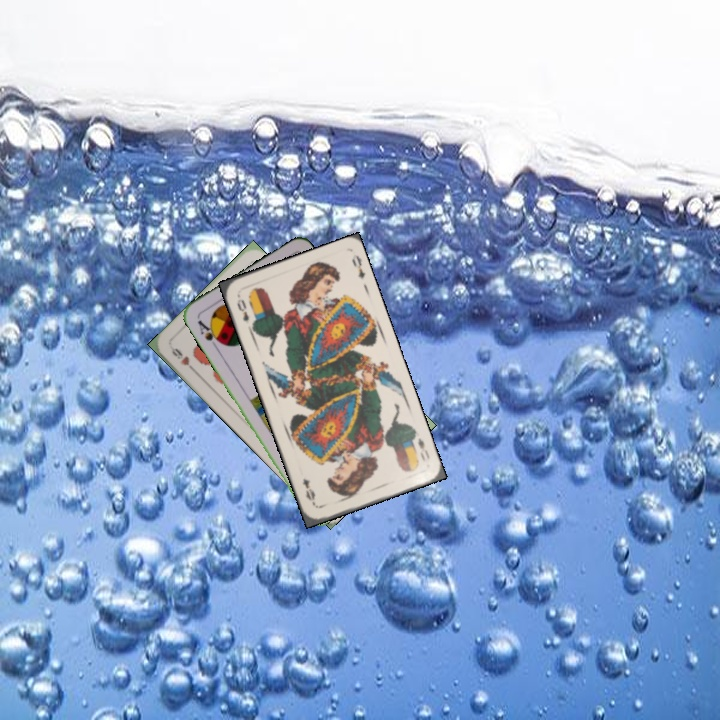EO: (233, 291, 257, 330), (414, 434, 432, 464)
H9: (166, 342, 199, 375)
SA: (193, 316, 225, 351)
